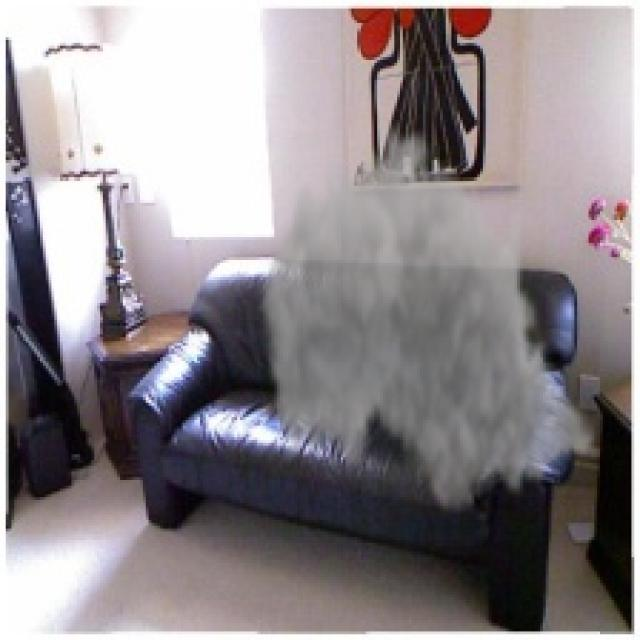smoke: (257, 114, 600, 523)
